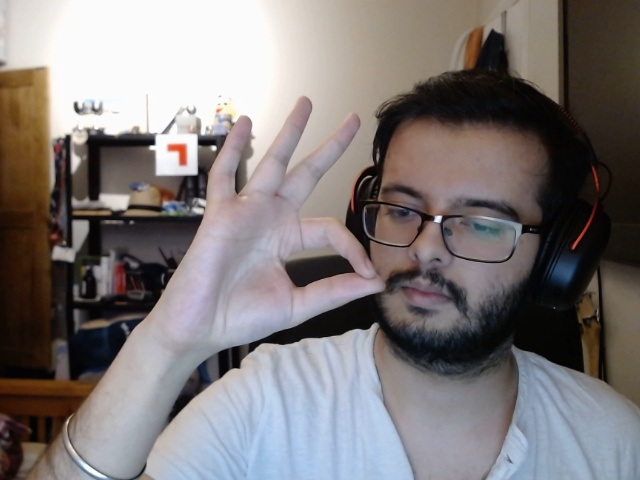Okay: (149, 87, 389, 380)
